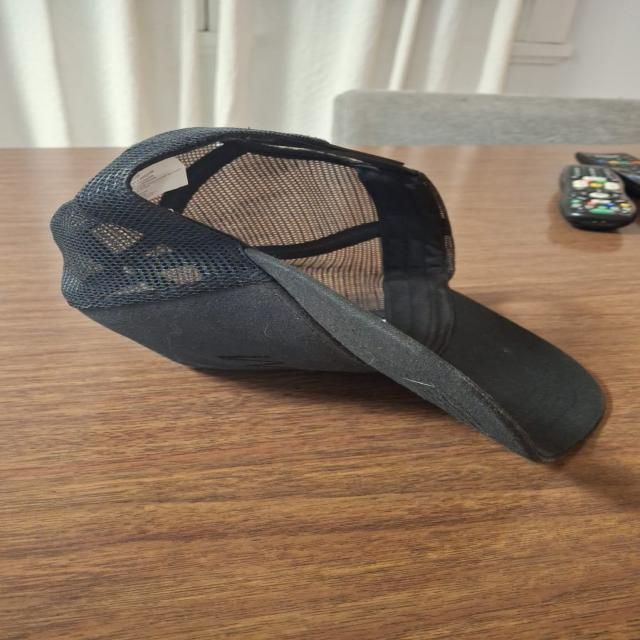Gorra: (48, 123, 611, 469)
